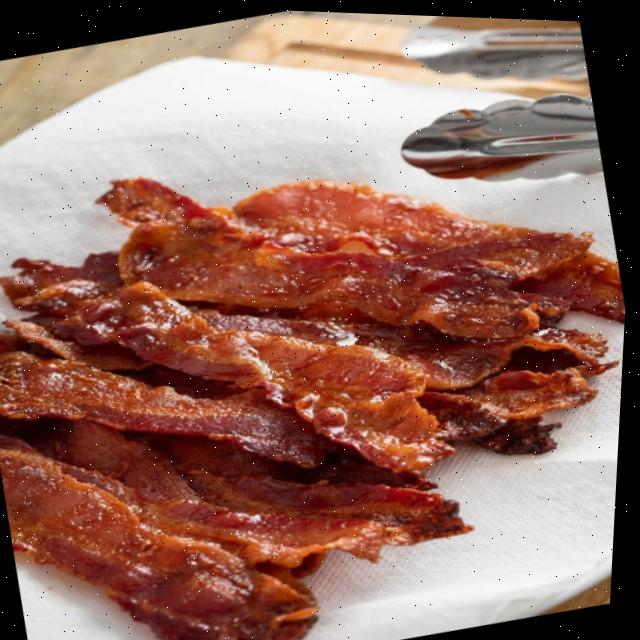Bacon: (64, 280, 457, 468), (2, 435, 322, 640), (2, 418, 391, 565), (122, 213, 566, 335), (0, 350, 330, 464), (235, 177, 540, 254), (509, 234, 593, 271)
